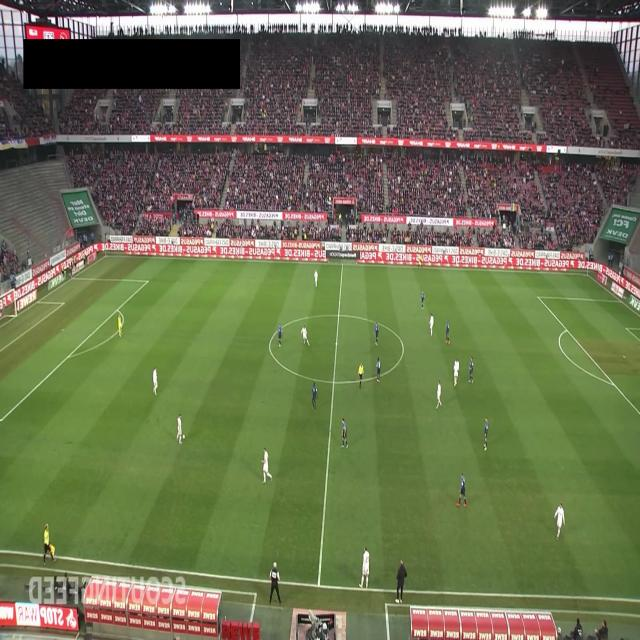ball: (182, 434, 185, 440)
goalkeeper: (117, 311, 123, 338)
player: (358, 545, 370, 589), (261, 447, 273, 484), (554, 502, 565, 540), (456, 471, 467, 507), (177, 412, 184, 444), (341, 417, 348, 449), (435, 380, 442, 410), (483, 416, 489, 449), (301, 325, 310, 346), (312, 381, 318, 412), (453, 357, 459, 387), (468, 356, 474, 384), (375, 355, 381, 383), (152, 367, 158, 395), (277, 324, 283, 347), (374, 321, 379, 346), (445, 320, 450, 344), (429, 313, 434, 336), (314, 269, 318, 287), (420, 290, 424, 308)
referee: (43, 524, 55, 564), (358, 362, 364, 388), (418, 251, 423, 268)
